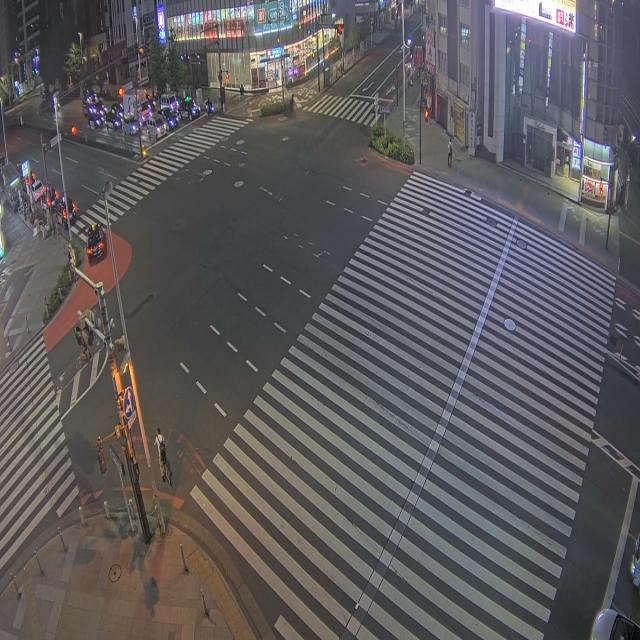car: (591, 609, 639, 639), (86, 224, 105, 261), (56, 197, 77, 225), (146, 114, 168, 140), (158, 107, 179, 130), (178, 97, 199, 119), (89, 100, 107, 119), (123, 114, 139, 135), (105, 112, 122, 130), (33, 181, 45, 201), (88, 113, 103, 128), (110, 102, 123, 118), (145, 92, 156, 110)
motorcycle: (631, 536, 639, 588), (205, 100, 214, 115)
van: (160, 94, 178, 111)
